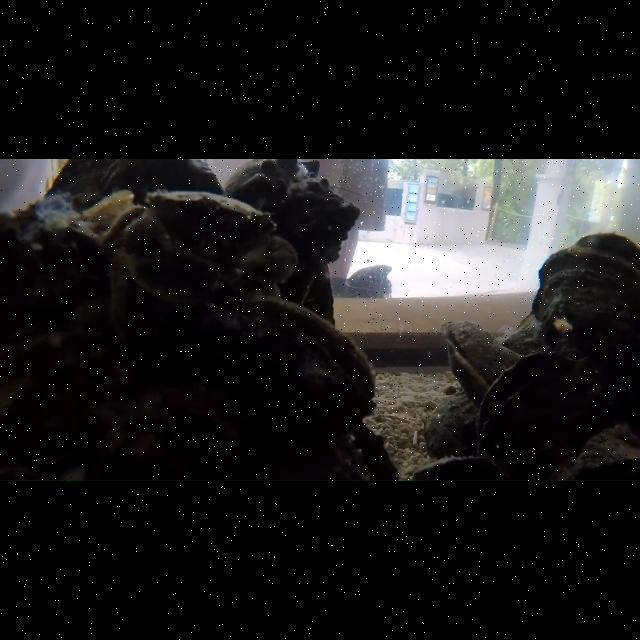Oyster-Closed: (478, 352, 604, 479), (242, 299, 374, 418), (532, 234, 640, 362), (248, 407, 401, 488), (225, 160, 360, 251), (79, 156, 228, 206), (568, 424, 640, 480)
Oyster-Open: (441, 321, 521, 404)
